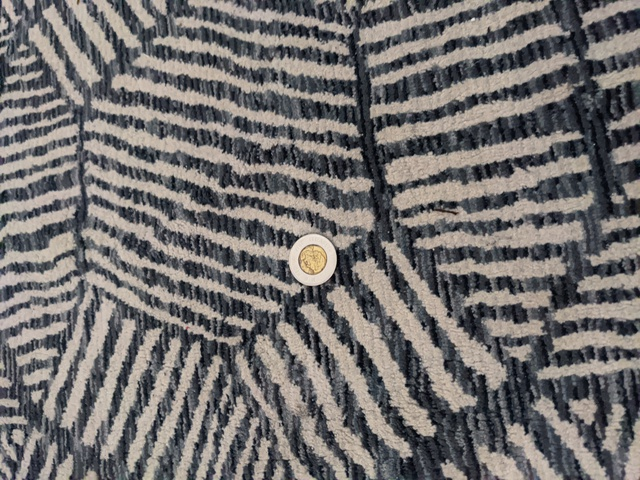twonie: (283, 225, 342, 289)
